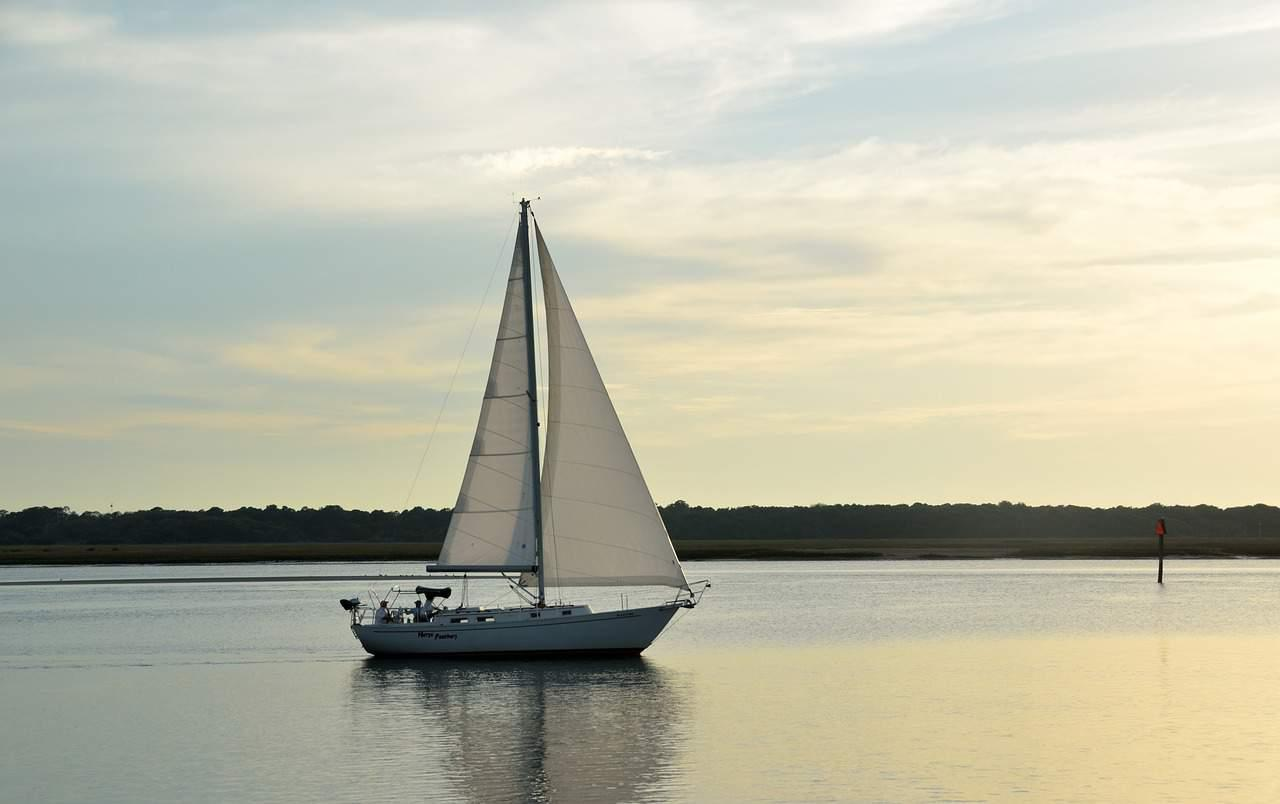Ship: (338, 200, 699, 669)
